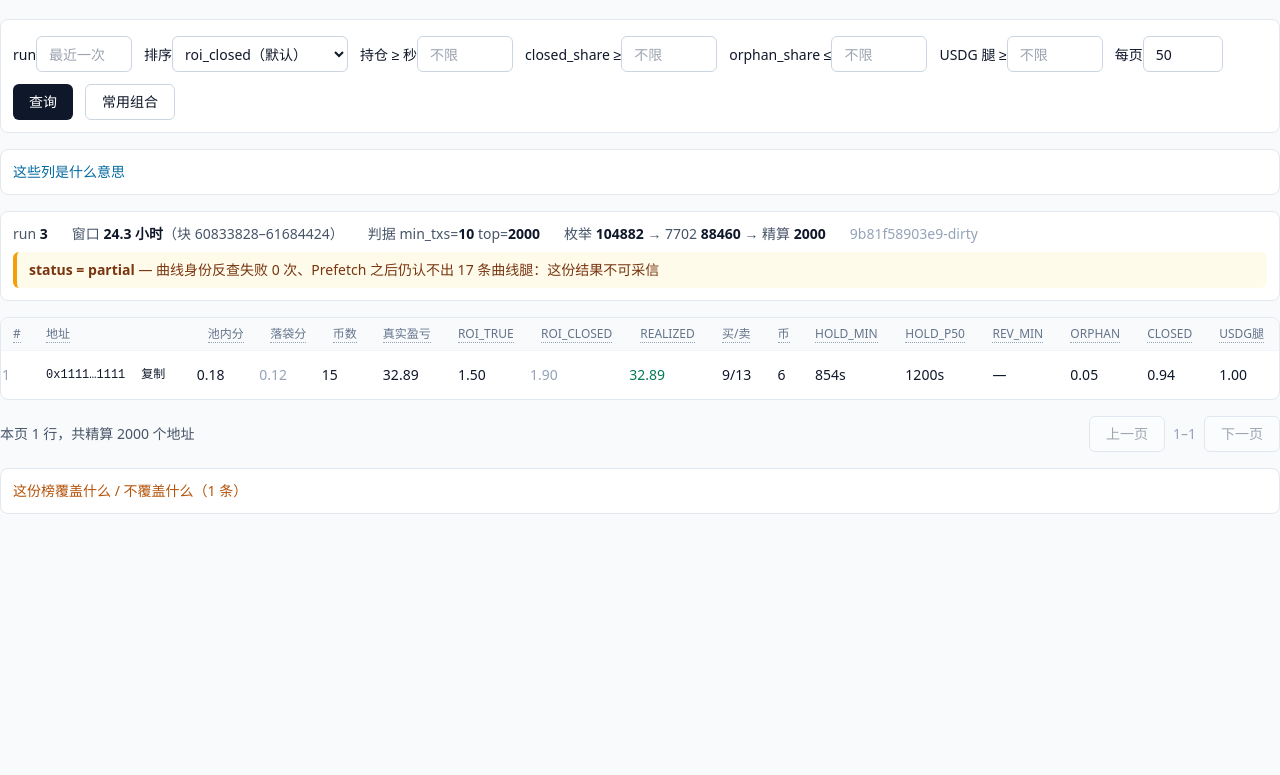
Test: 表头带悬停提示，且列说明可展开
Expected: the text "status = partial" is shown, [29, 260, 135, 279]
Expected: the text titled "榜单按它排序" is shown, [208, 325, 244, 343]
Click the button "这些列是什么意思".
click(69, 172)  # box [13, 162, 125, 182]
(page scrolled)
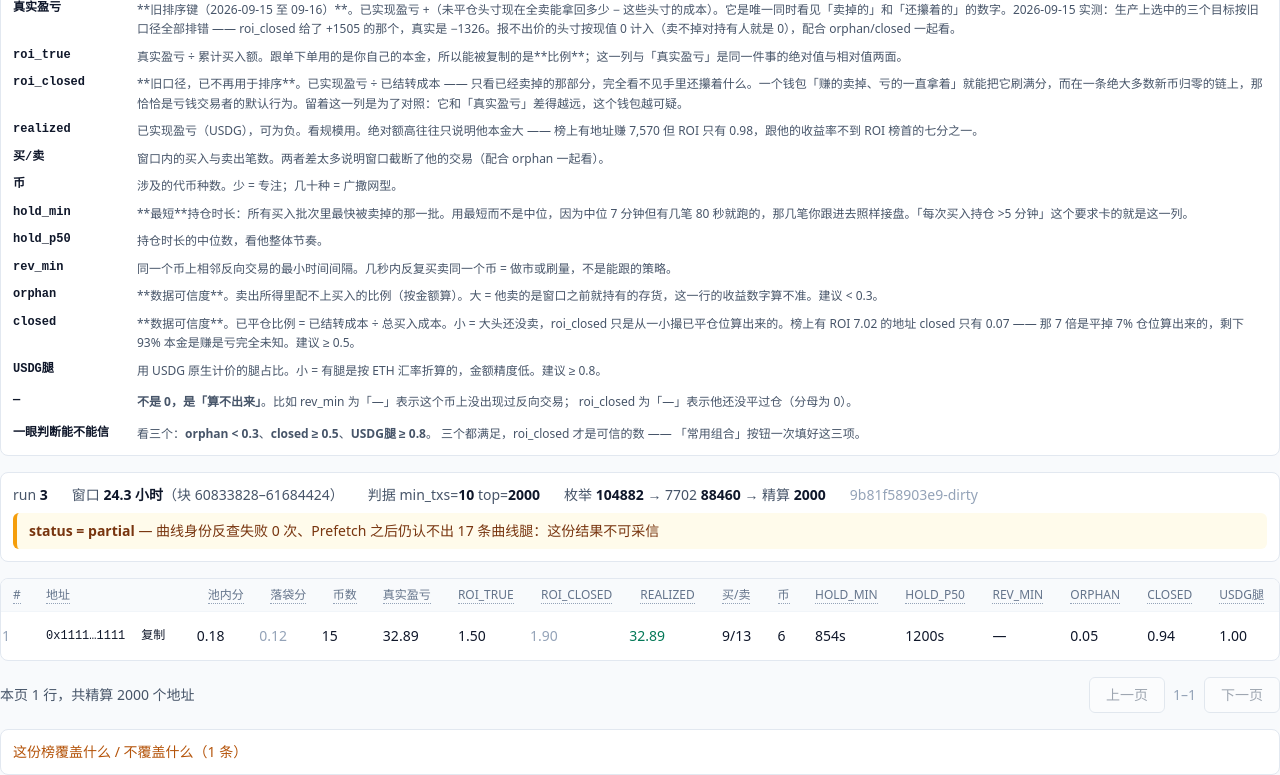
Expected: the text "不是 0，是「算不出来」" is shown, [137, 393, 261, 410]
Expected: the text "一眼判断能不能信" is shown, [13, 424, 125, 443]
